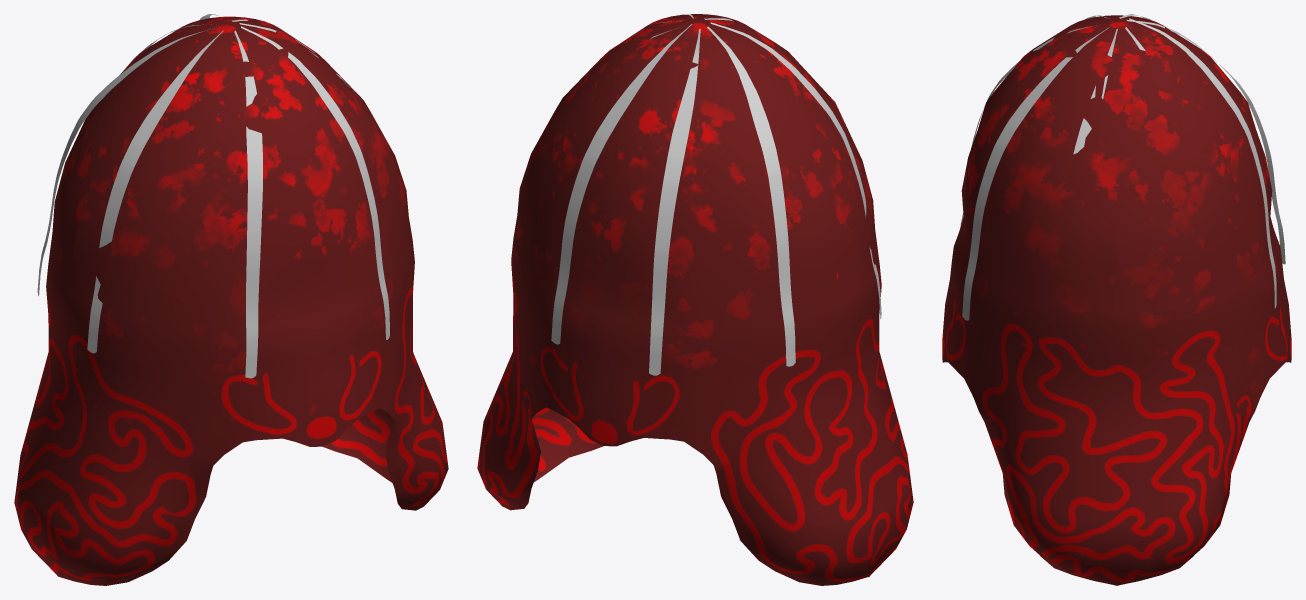
The model's file is bloodJelly_temp.fbx.
3 views of the same model, side by side, from view 1: azimuth 30°, elevation 25°; view 2: azimuth 150°, elevation 25°; view 3: azimuth 270°, elevation 25° (orthographic). The views are drawn at different scales.
Visible parts, largest first — view 1: Plane.025; view 2: Plane.025; view 3: Plane.025.
Boxes of the visible parts, bbox=[...] form: Plane.025: bbox=[14, 14, 448, 585]; Plane.025: bbox=[477, 14, 913, 585]; Plane.025: bbox=[942, 14, 1291, 585].
Bounding box in the file's own units: 0.3489 × 0.4444 × 0.2888.
